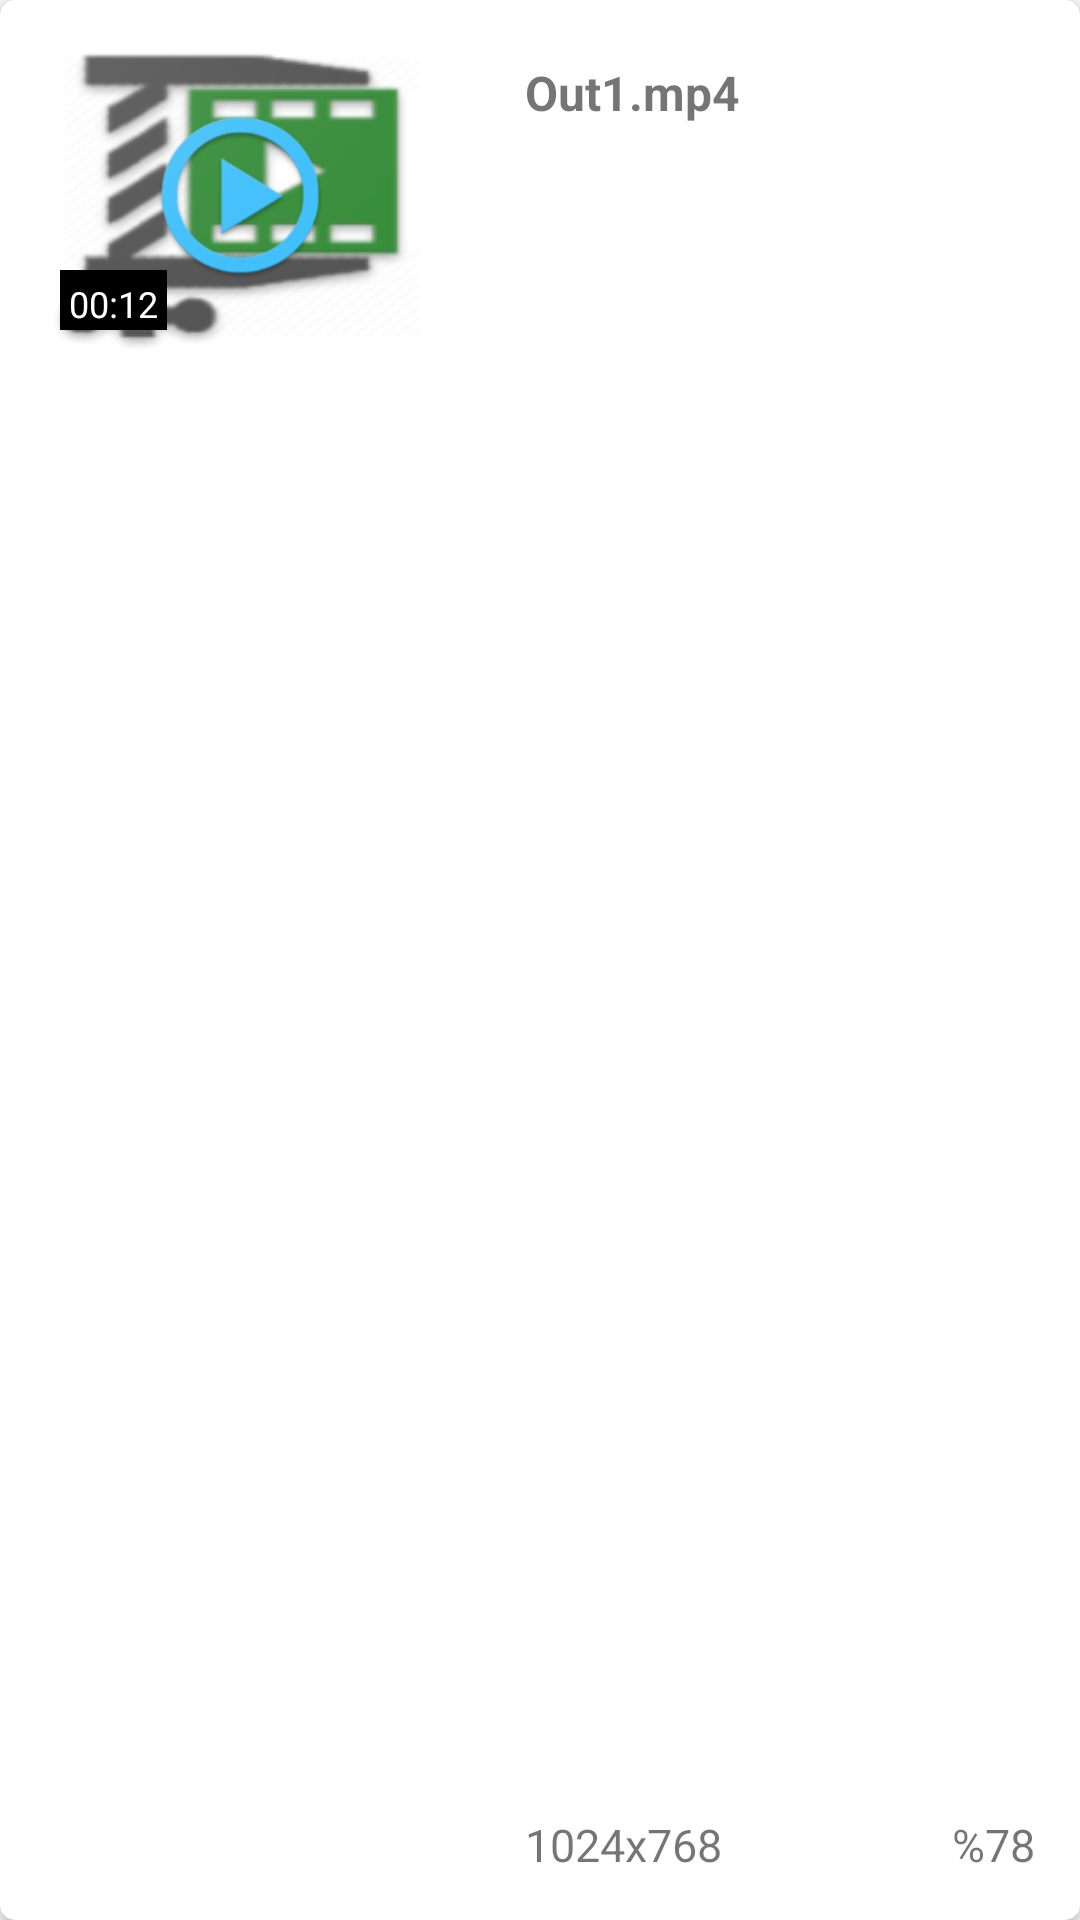

Point at icon controls on the screen. Image size 1080*1920, points as point (x, y).
play: point (240, 195)
